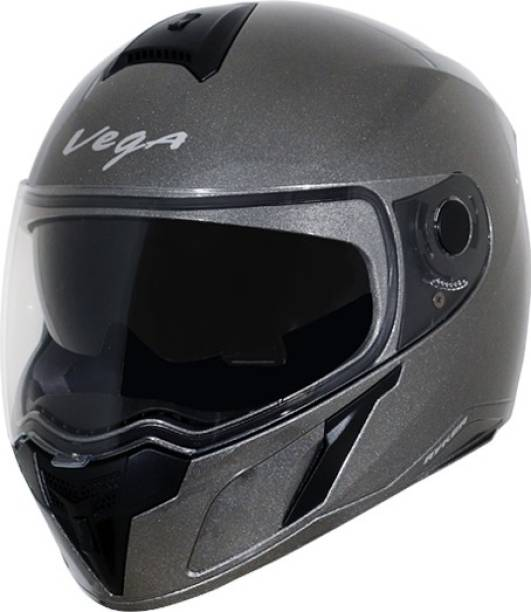with_helmet: (3, 1, 531, 604)
